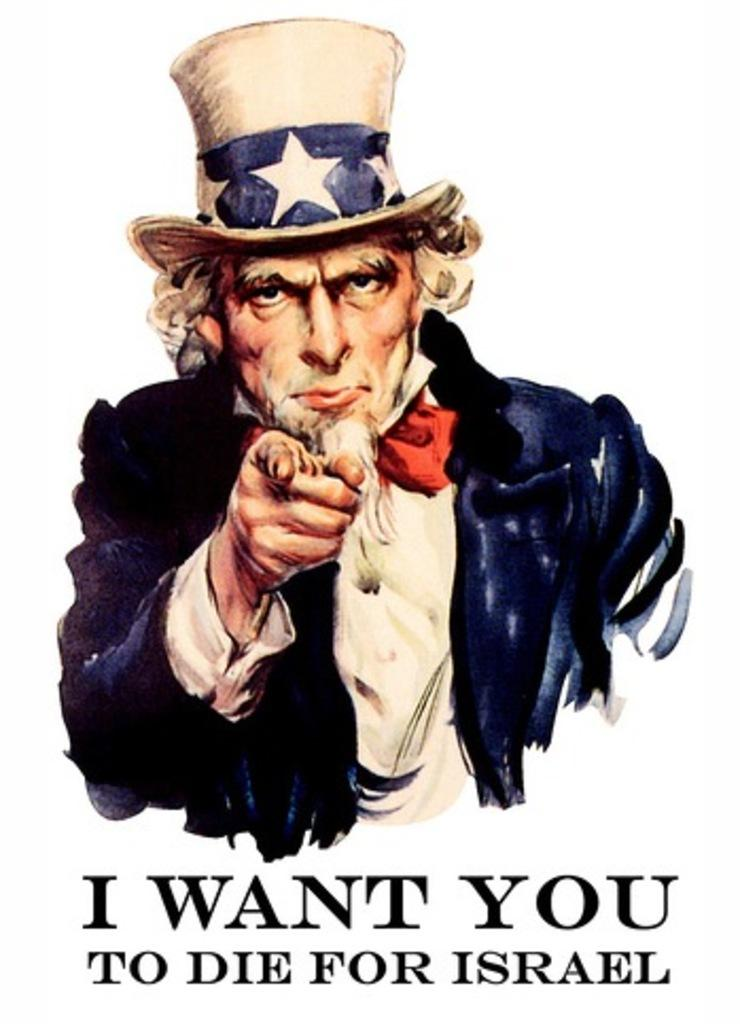Hat: (124, 14, 464, 282)
